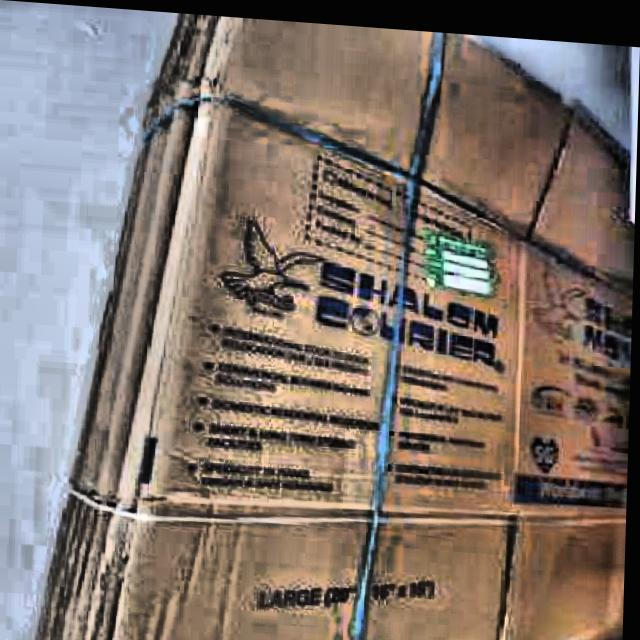Cardbox: (67, 5, 640, 640)
